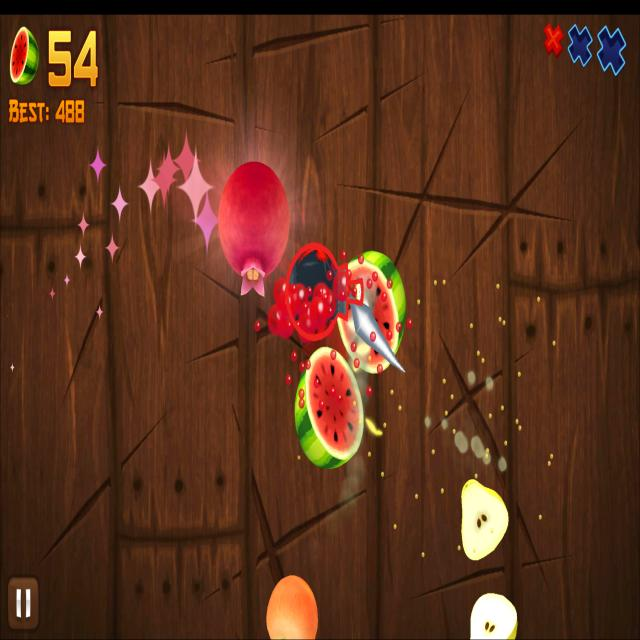bomb: (285, 240, 364, 342)
fruit: (218, 160, 290, 278), (266, 574, 319, 640)
